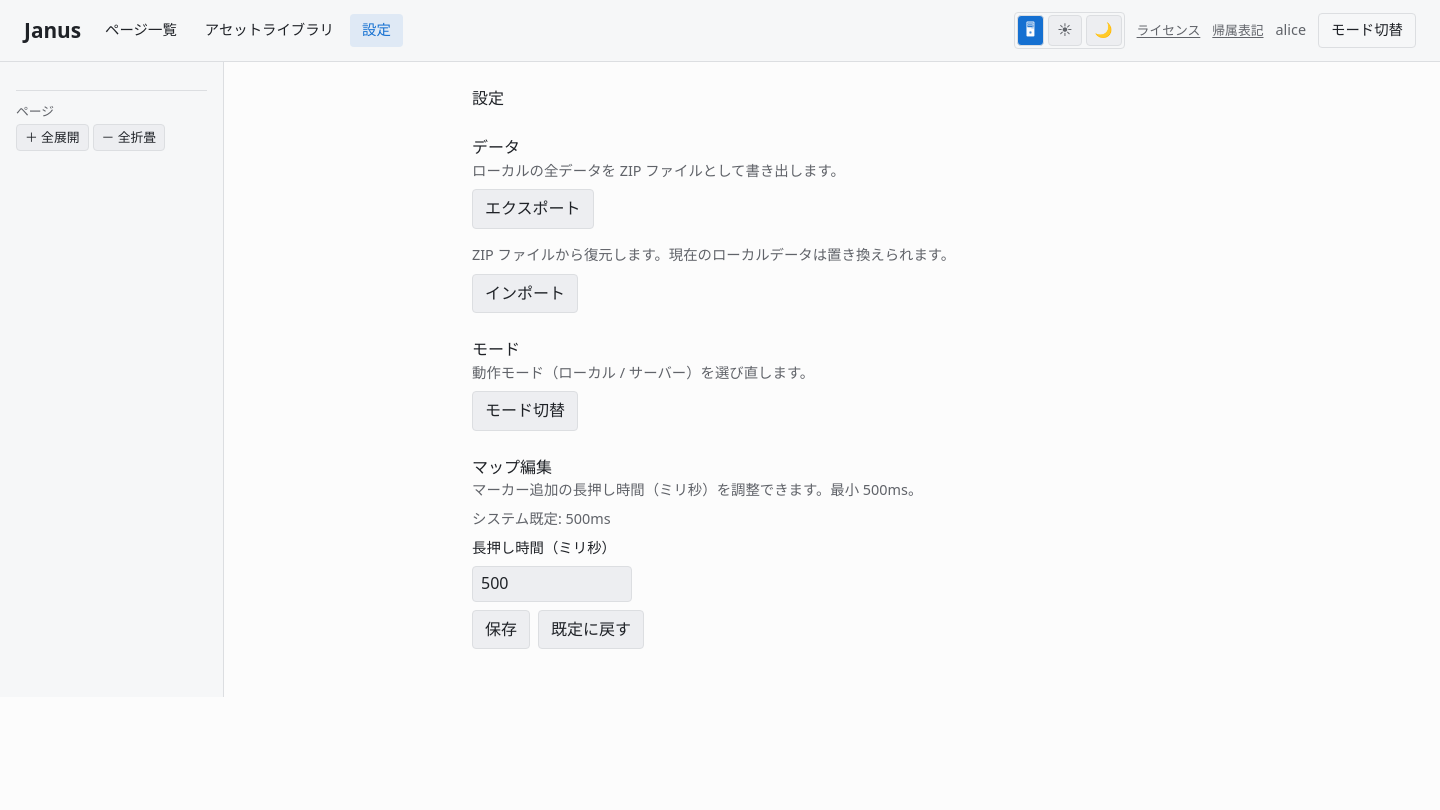
SettingsPage（マップ編集セクション） › 正常値の保存で writeUserLongPressMs が呼ばれ role=status を表示する
Expected: the heading "設定" is shown, [472,87,504,109]
Replace the text in the number field labelled "長押し時間（ミリ秒）" with "800". click: (552, 584)
box: [472,566,632,602]
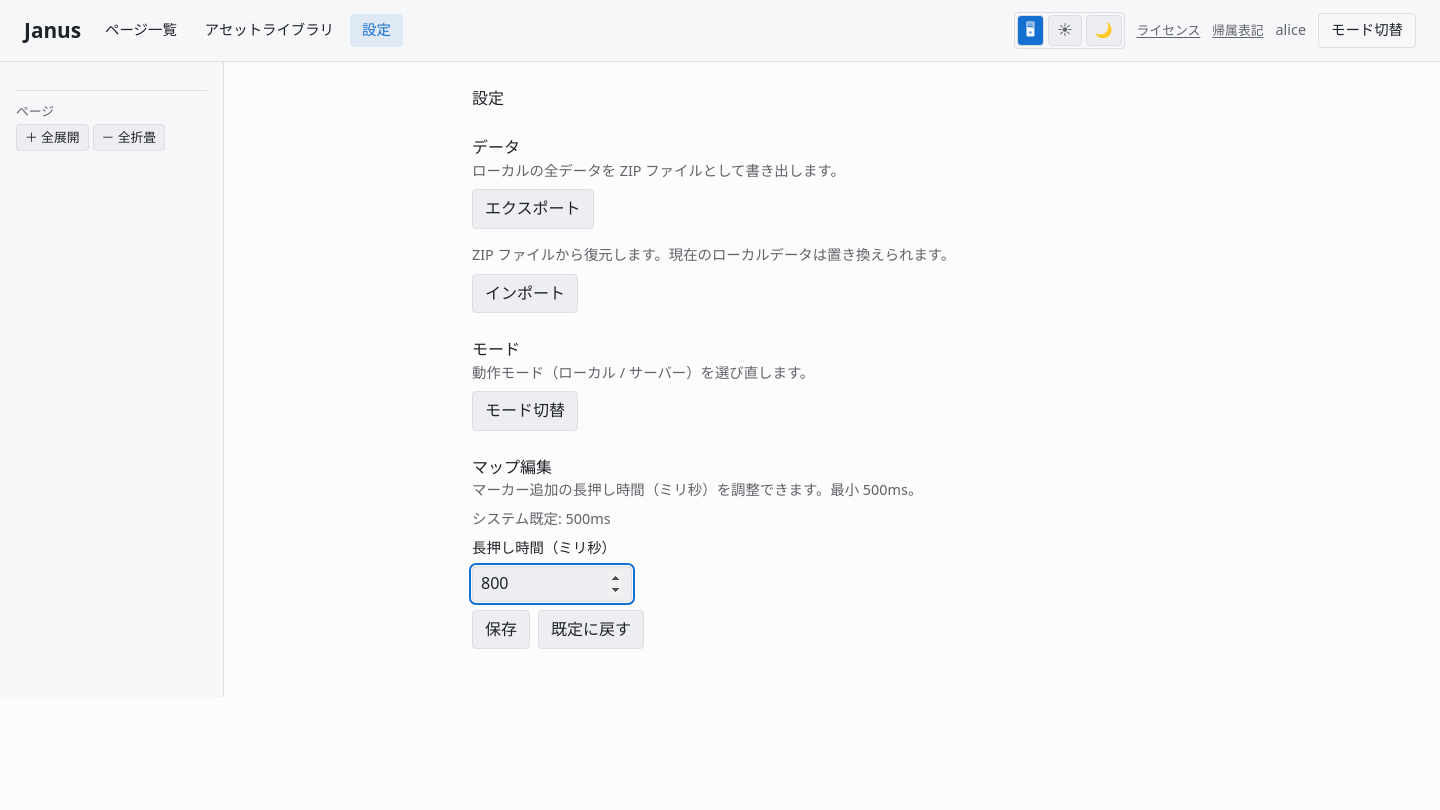
Click the button "保存". click: (501, 630)
box: [472,610,530,649]
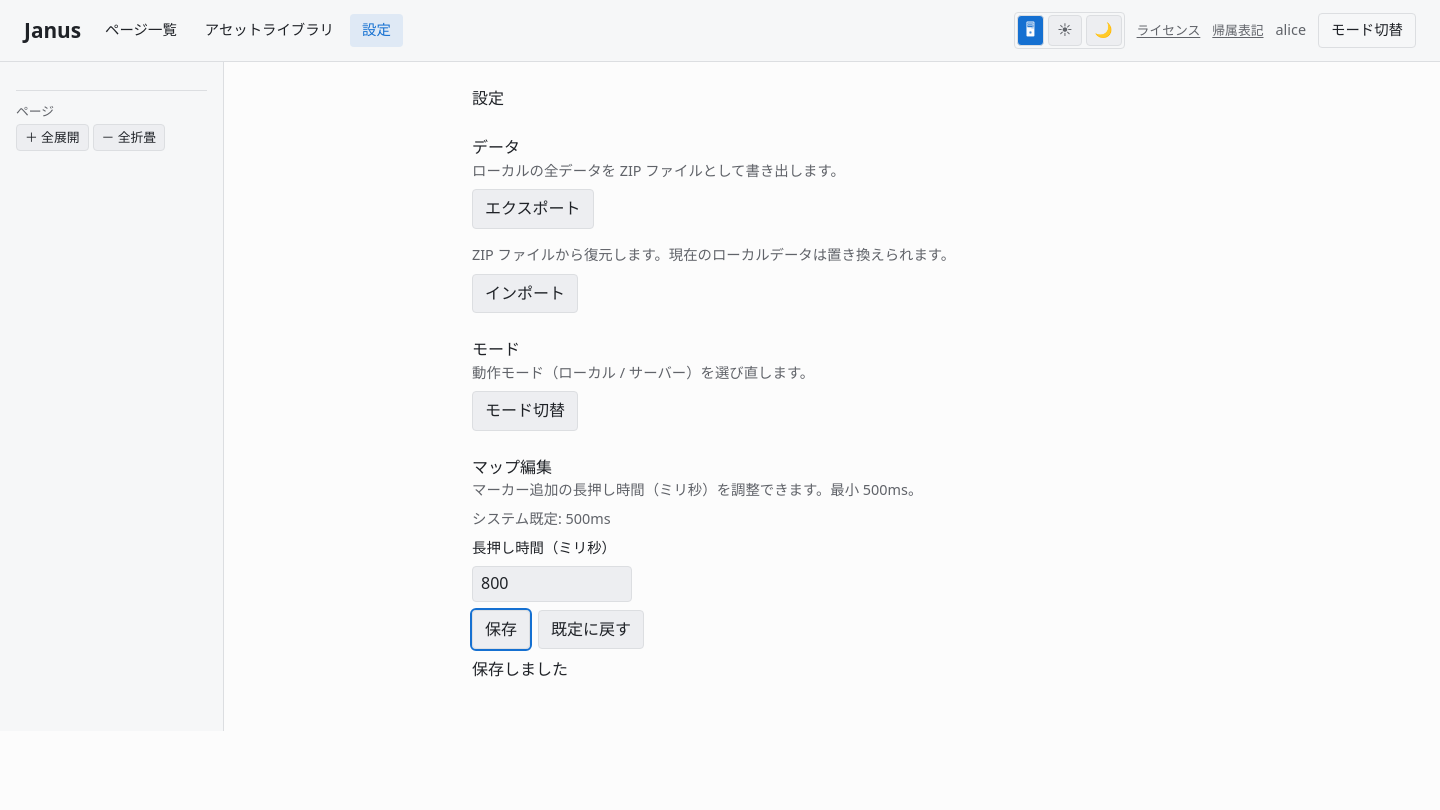
Expected: the message reads "保存しました", [472,658,568,680]
